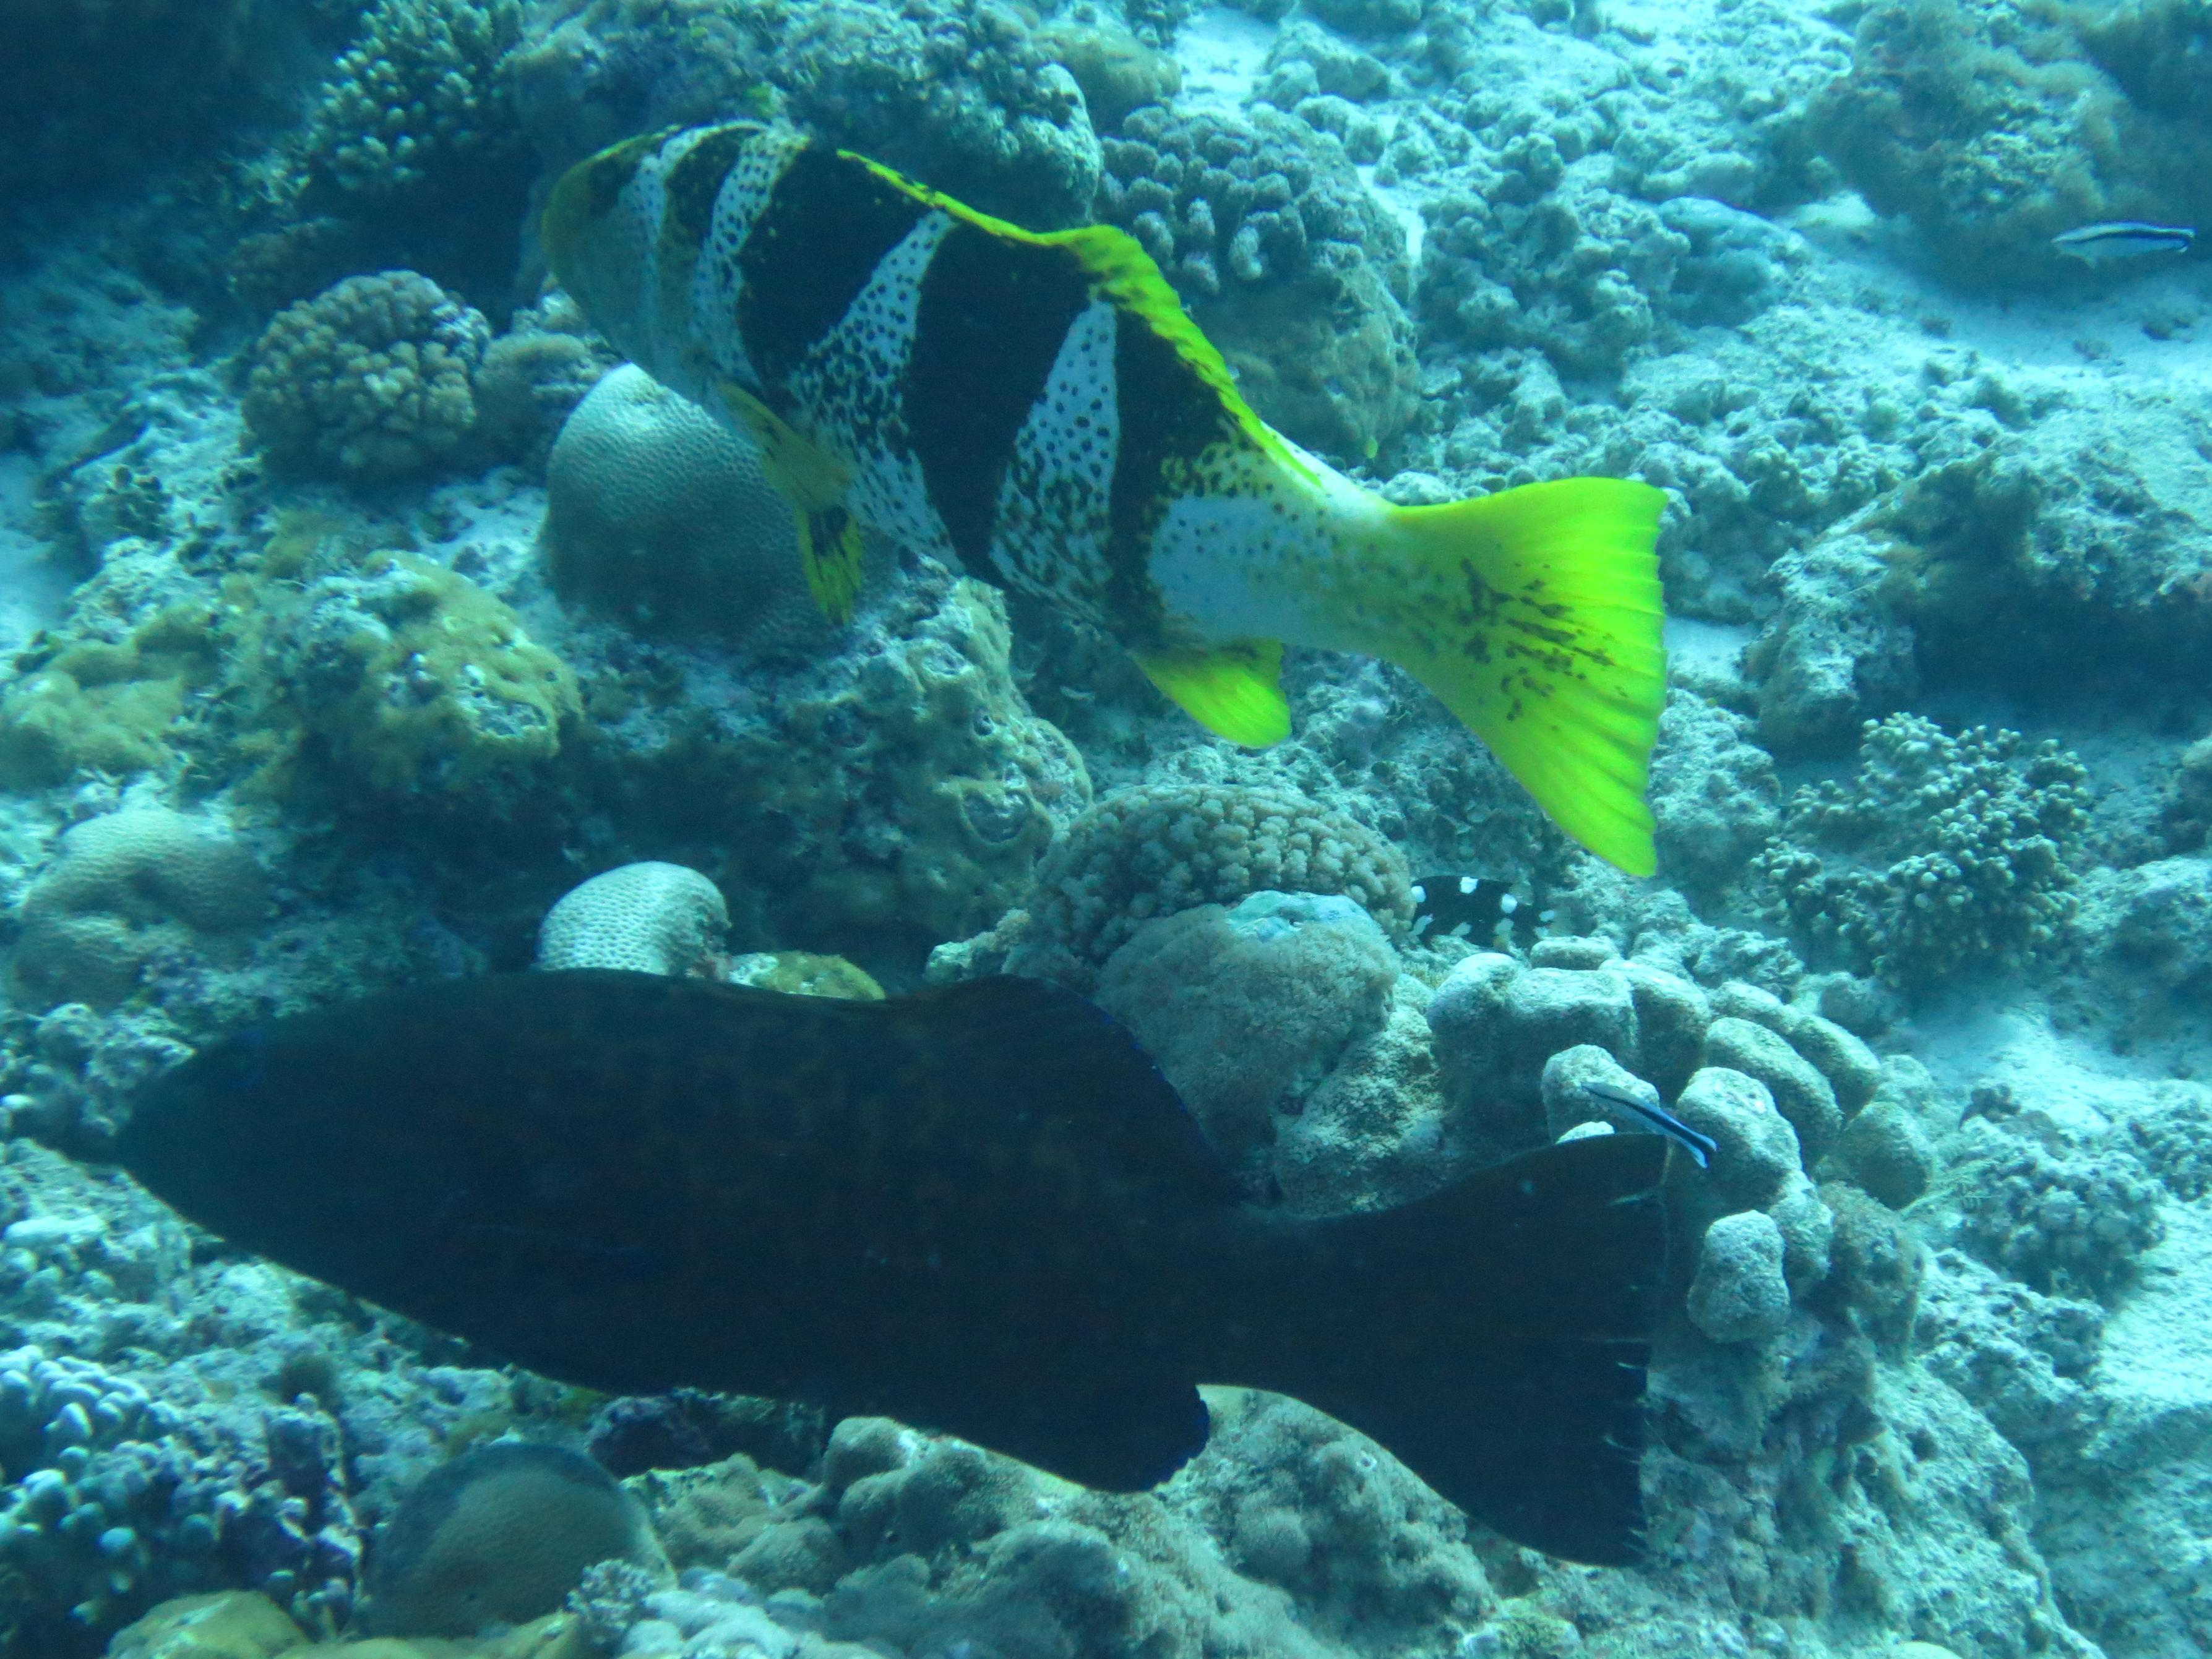Fish: (448, 59, 1884, 903), (115, 962, 1822, 1600)
